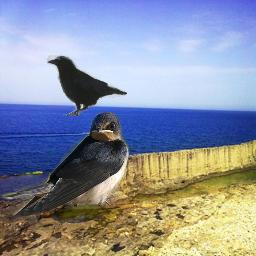Crow: (45, 54, 127, 116)
Swallow: (0, 112, 129, 216)
